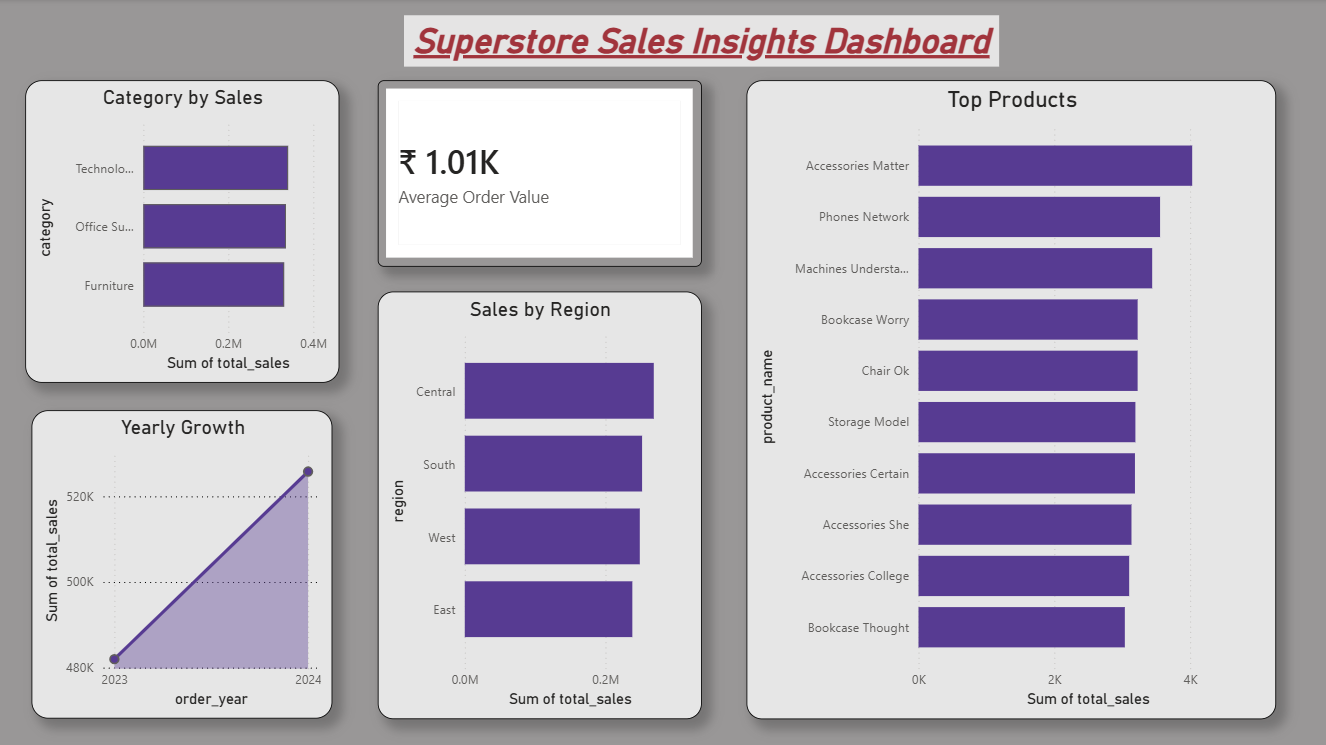

The page's visual inventory and layout, read from the dashboard file:
{"tool":"powerbi","page":{"name":"Page 1","canvas":[1280,720],"ordinal":0},"visuals":[{"type":"clusteredBarChart","title":"Sales by Region","fields":{"Category":["sales_by_region.region"],"Y":["Sum(sales_by_region.total_sales)"]},"box":[365.6,282.3,312.5,412.6],"z":0},{"type":"clusteredBarChart","title":"Top Products","fields":{"Category":["top_products.product_name"],"Y":["Sum(top_products.total_sales)"]},"box":[721.5,78.4,511.5,616.5],"z":1000},{"type":"lineChart","title":"Yearly Growth","fields":{"Y":["Sum(yoy_growth.total_sales)"],"Category":["yoy_growth.order_year"]},"box":[31.4,396.9,290.8,298],"z":2000},{"type":"clusteredBarChart","title":"Category by Sales","fields":{"Category":["category_sales.category"],"Y":["Sum(category_sales.total_sales)"]},"box":[25.3,78.4,302.8,292],"z":3000},{"type":"textbox","box":[390.9,15.7,574.3,49.5],"z":4000},{"type":"cardVisual","fields":{"Data":["Avg(Average order value.avg_order_value)"]},"box":[365.6,78.4,312.5,179.8],"z":5000}]}

Visuals, with their boxes in screenshot pixels (x1, y1, x2, y2), scaled from the page's 1280x720 canvas onto the 1326x745 screenshot:
"Sales by Region" clusteredBarChart: x1=379, y1=292, x2=702, y2=719
"Top Products" clusteredBarChart: x1=747, y1=81, x2=1277, y2=719
"Yearly Growth" lineChart: x1=33, y1=411, x2=334, y2=719
"Category by Sales" clusteredBarChart: x1=26, y1=81, x2=340, y2=383
textbox: x1=405, y1=16, x2=1000, y2=67
cardVisual - Avg(Average order value.avg_order_value): x1=379, y1=81, x2=702, y2=267
